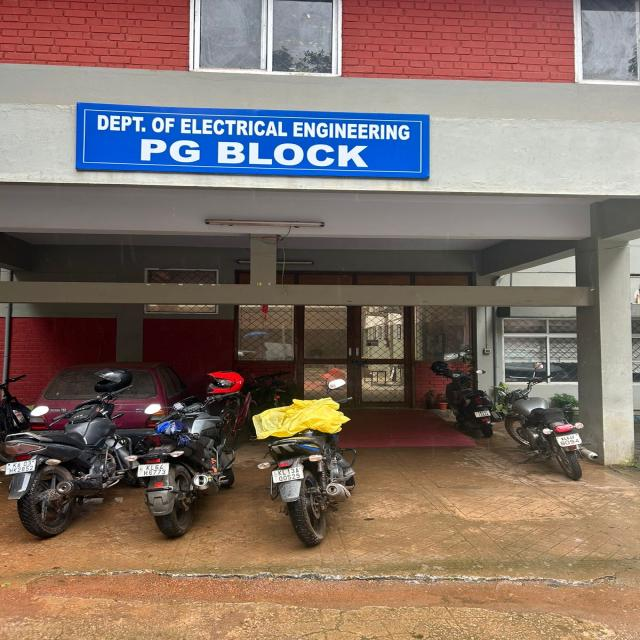motorcycle ahead at: (254, 373, 363, 547), (9, 374, 123, 538), (132, 384, 250, 542), (500, 377, 587, 488)
pillar ahead at: (577, 243, 633, 462)
